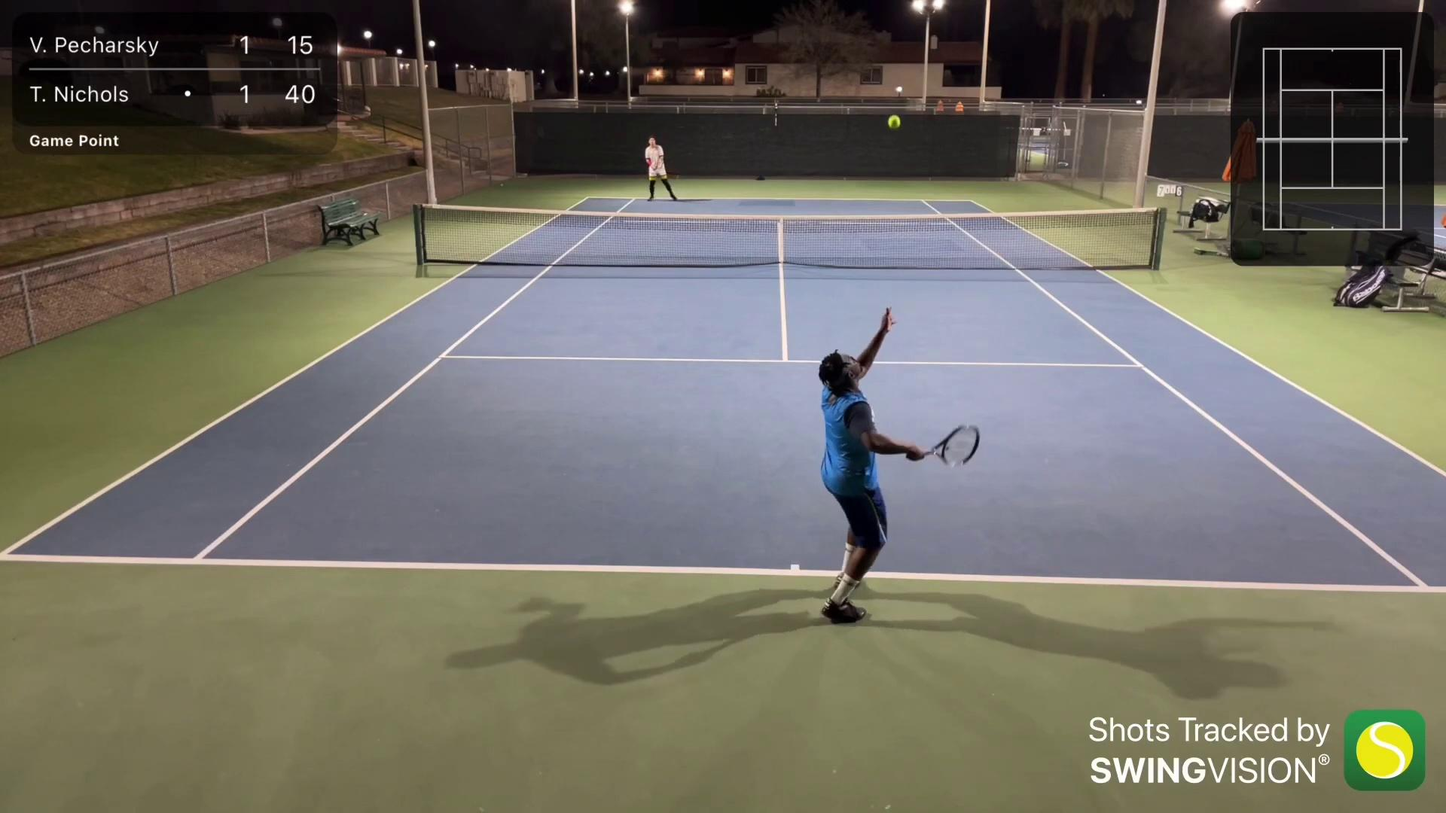ball: (887, 114, 903, 130)
